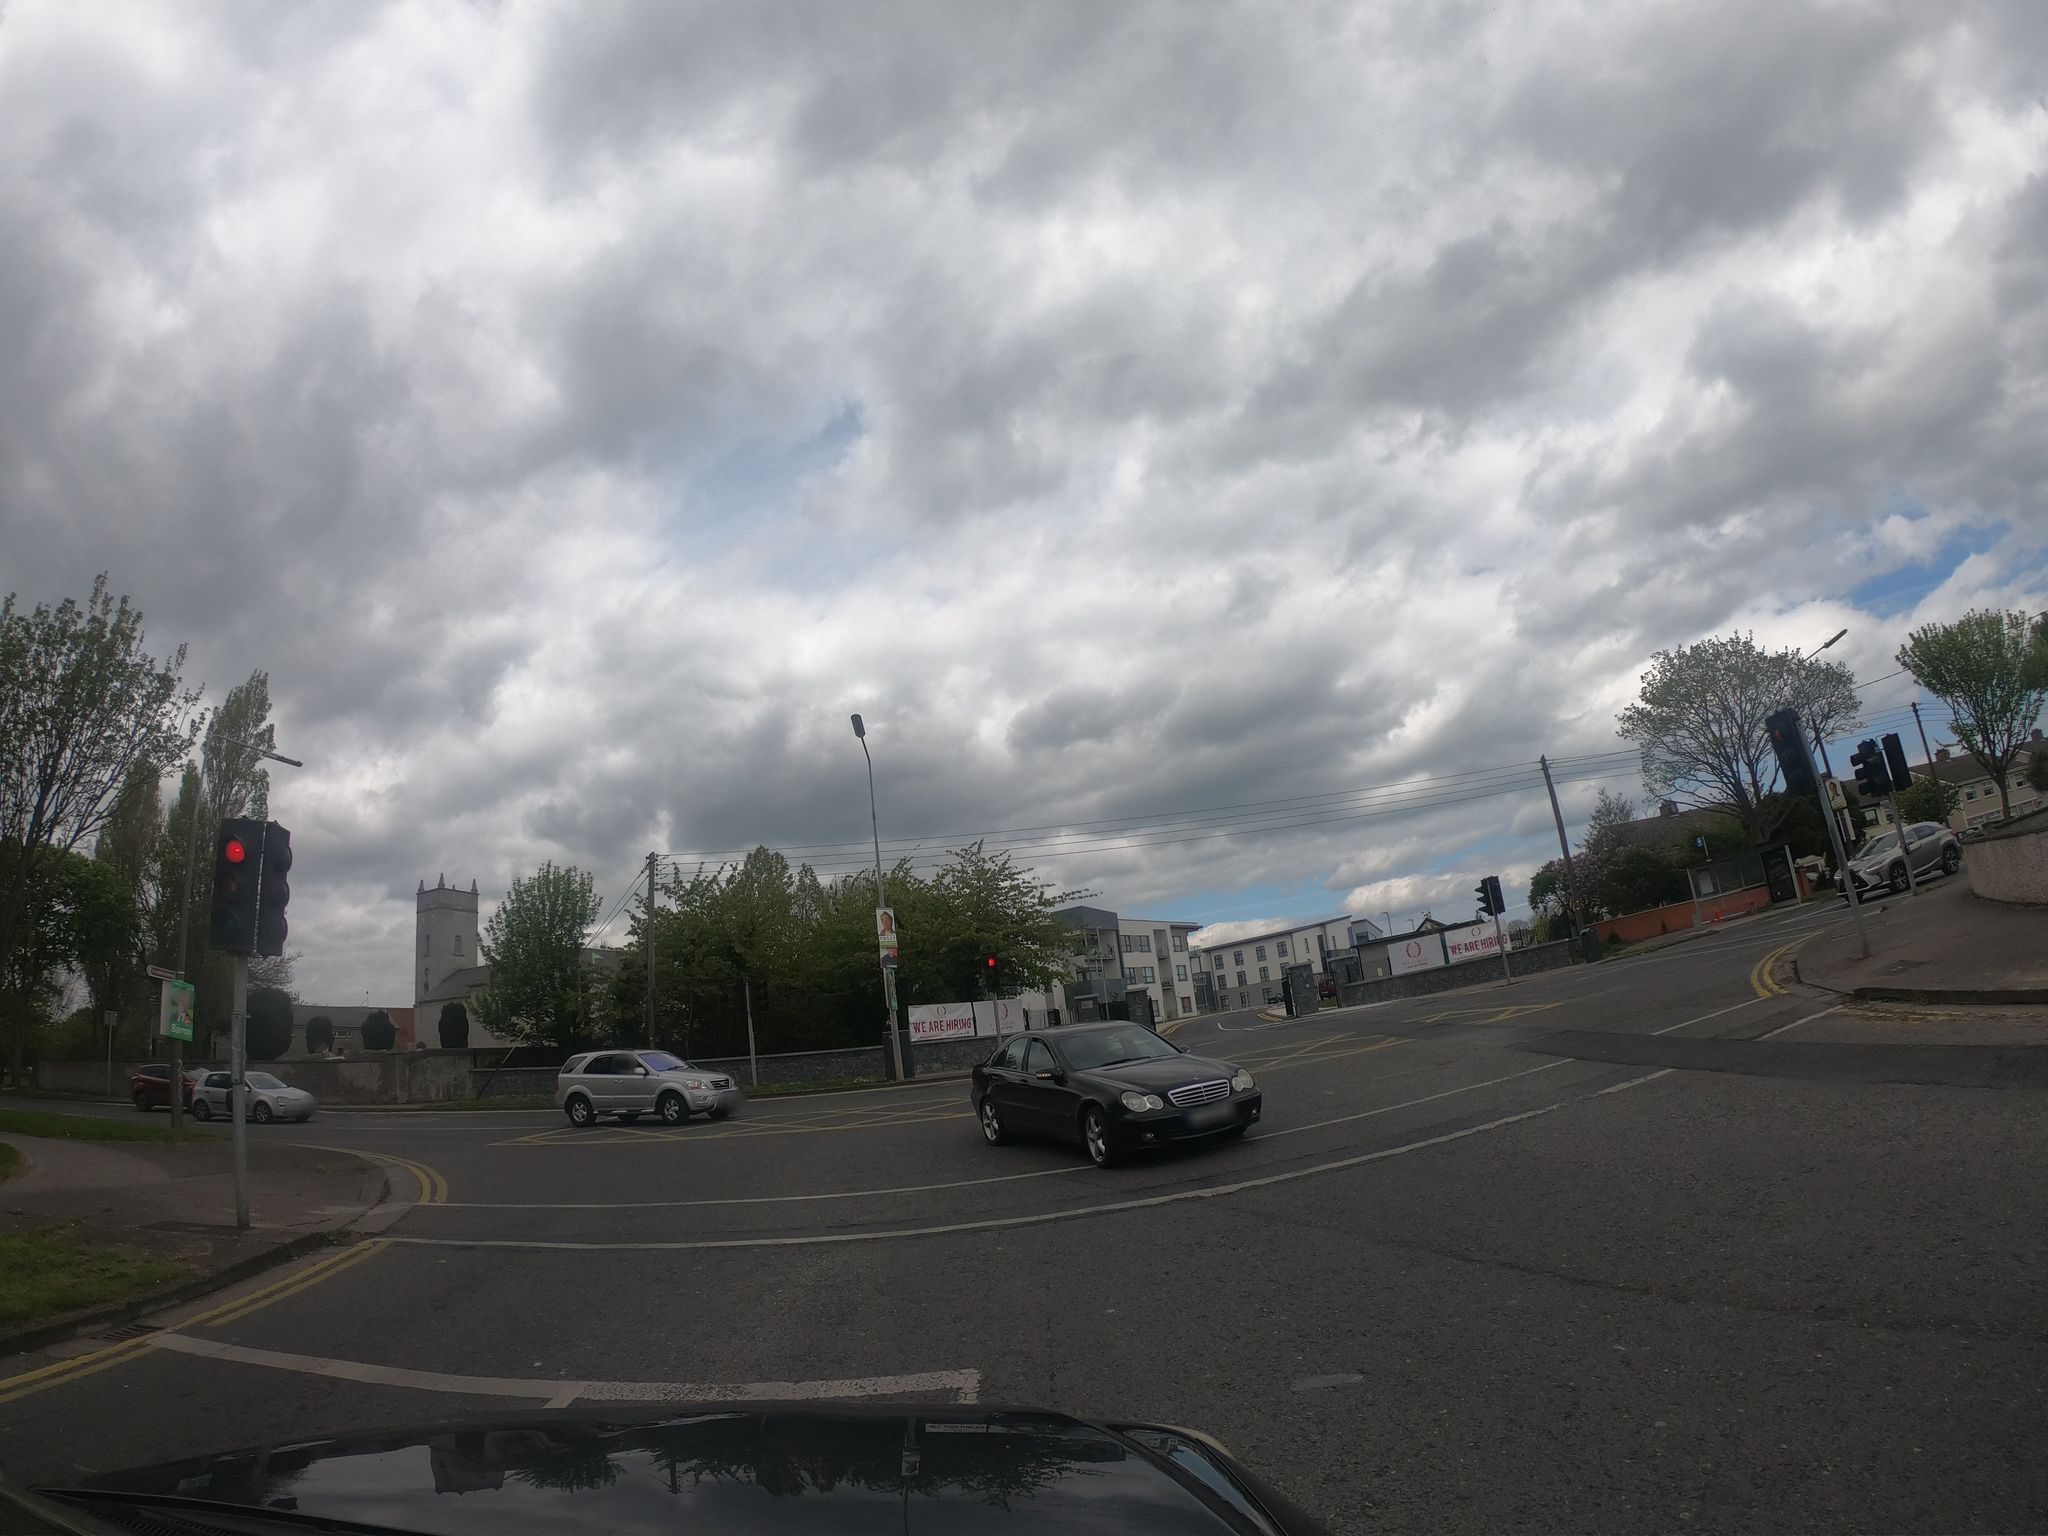vinyl banner: (1442, 913, 1535, 971), (897, 981, 980, 1046)
